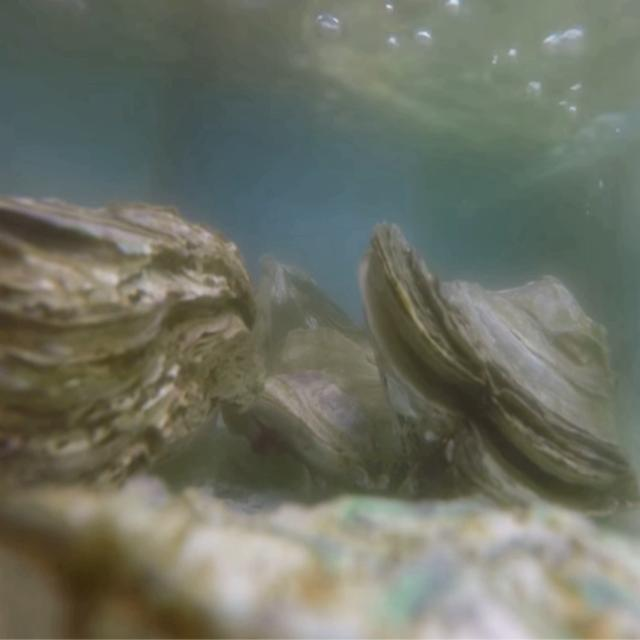Oyster-Closed: (0, 193, 258, 527), (255, 328, 419, 503)
Oyster-Indeterminate: (0, 478, 640, 640)
Oyster-Open: (358, 219, 640, 532)
